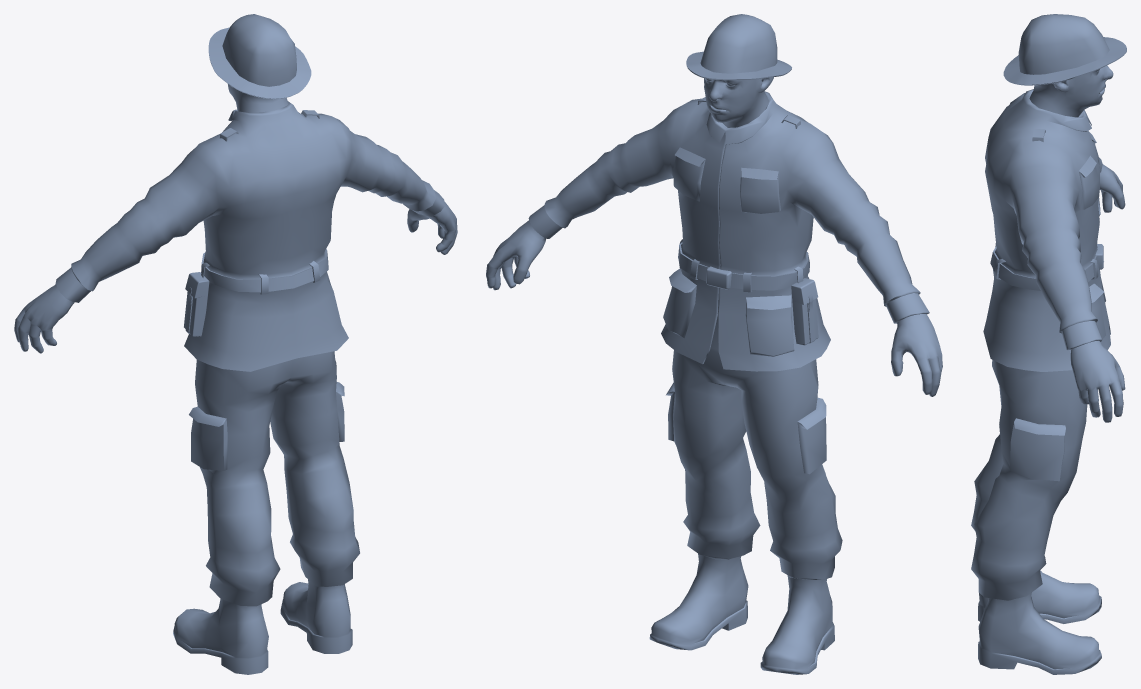
The model's file is Body.fbx.
3 renders of one model, left to right at view 1: azimuth 30°, elevation 25°; view 2: azimuth 150°, elevation 25°; view 3: azimuth 270°, elevation 25°, orthographic. The views are drawn at different scales.
Visible parts, largest first — view 1: Body; view 2: Body; view 3: Body.
Boxes of the visible parts, x1,y1,x2,y2 form: Body: [14, 14, 457, 674]; Body: [486, 14, 942, 674]; Body: [971, 14, 1126, 674].
Size of the model in its own units: 137 by 184 by 41.84.
